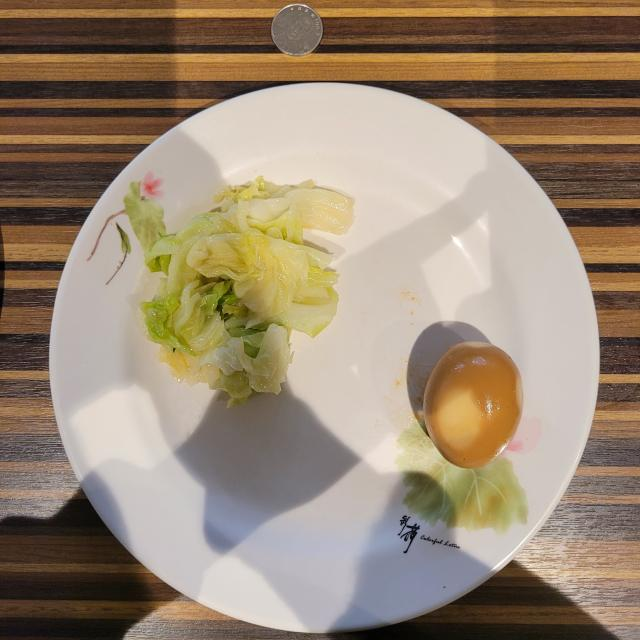cabbage: (124, 176, 354, 405)
coin: (271, 4, 322, 56)
soy egg: (424, 341, 522, 469)
